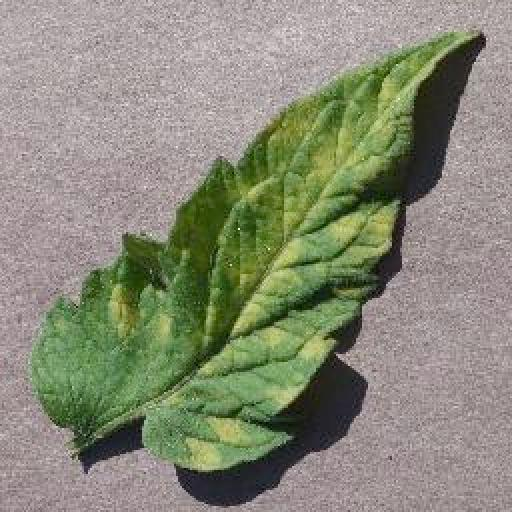disease_tomato: (35, 29, 483, 471)
